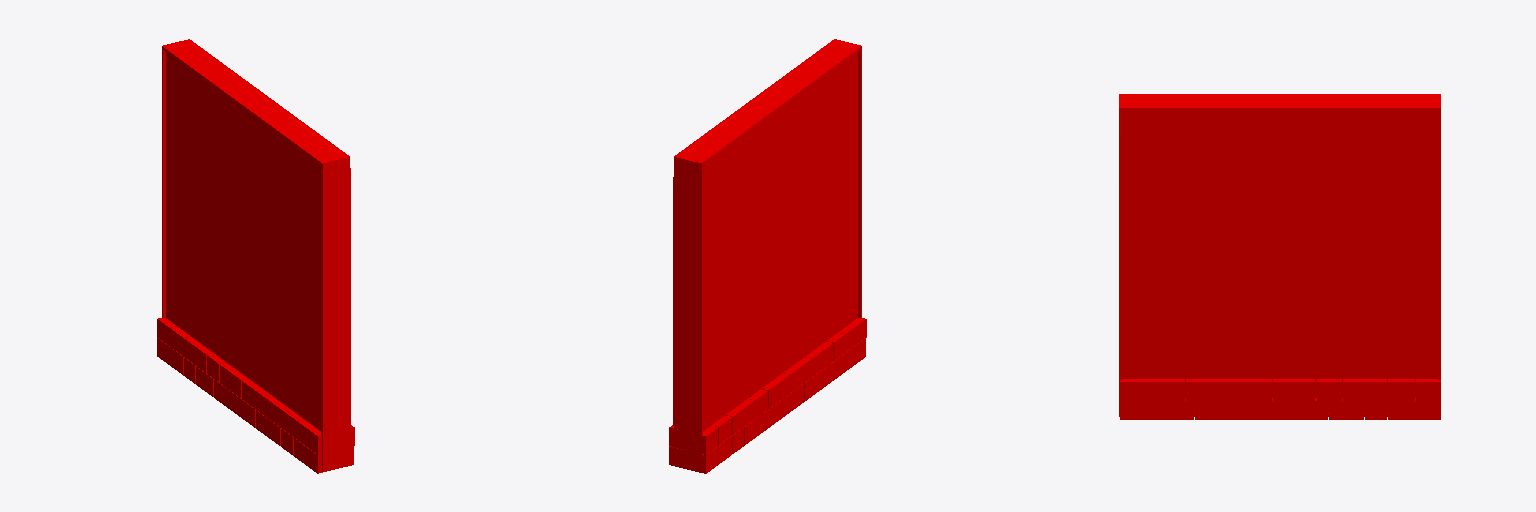
File: trimmedWall.obj
3 renders of one model, left to right at view 1: azimuth 30°, elevation 25°; view 2: azimuth 150°, elevation 25°; view 3: azimuth 270°, elevation 25°, orthographic.
Parts seen in each view (by area): view 1: BrickMedium.001_Cube.028; view 2: BrickMedium.001_Cube.028; view 3: BrickMedium.001_Cube.028.
Boxes of the visible parts, x1,y1,x2,y2 form: BrickMedium.001_Cube.028: [157, 39, 354, 473]; BrickMedium.001_Cube.028: [669, 39, 866, 473]; BrickMedium.001_Cube.028: [1119, 94, 1440, 419].
Bounding box in the file's own units: 0.132 × 1.06 × 1.